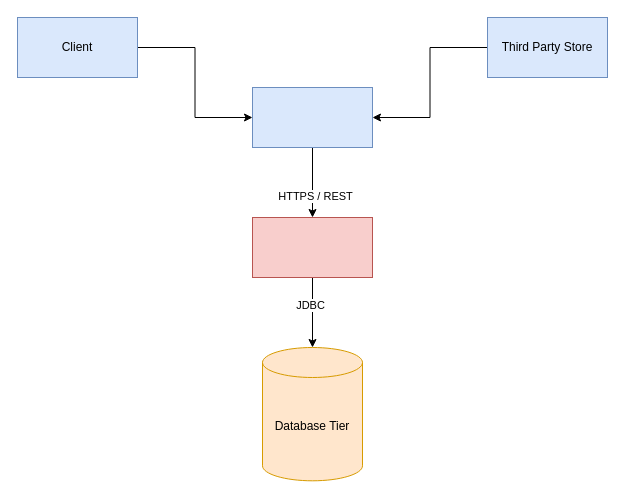
This 625x499 diagram has some shape labels left out. The shapes that lost their labels are listed below. From the top down, each one's centre as x and y in pixels, then its label:
At (312,117): "React Frontend Client Tier".
At (312,247): "Spring Boot Backend Application Tier".
